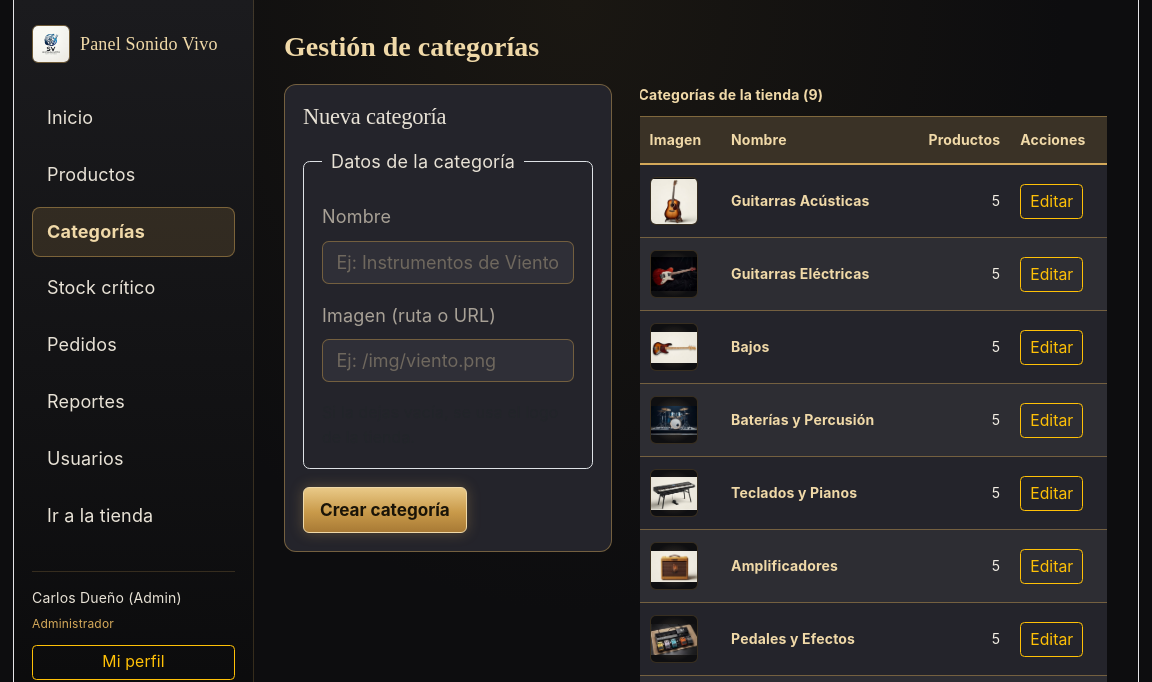
Scenario: Página AdminCategorias › crea una categoría nueva
The width and height of the screenshot is (1152, 682).
Type "Instrumentos de Viento" into the field labelled "Nombre" at (448, 262), box [322,241,574,284]
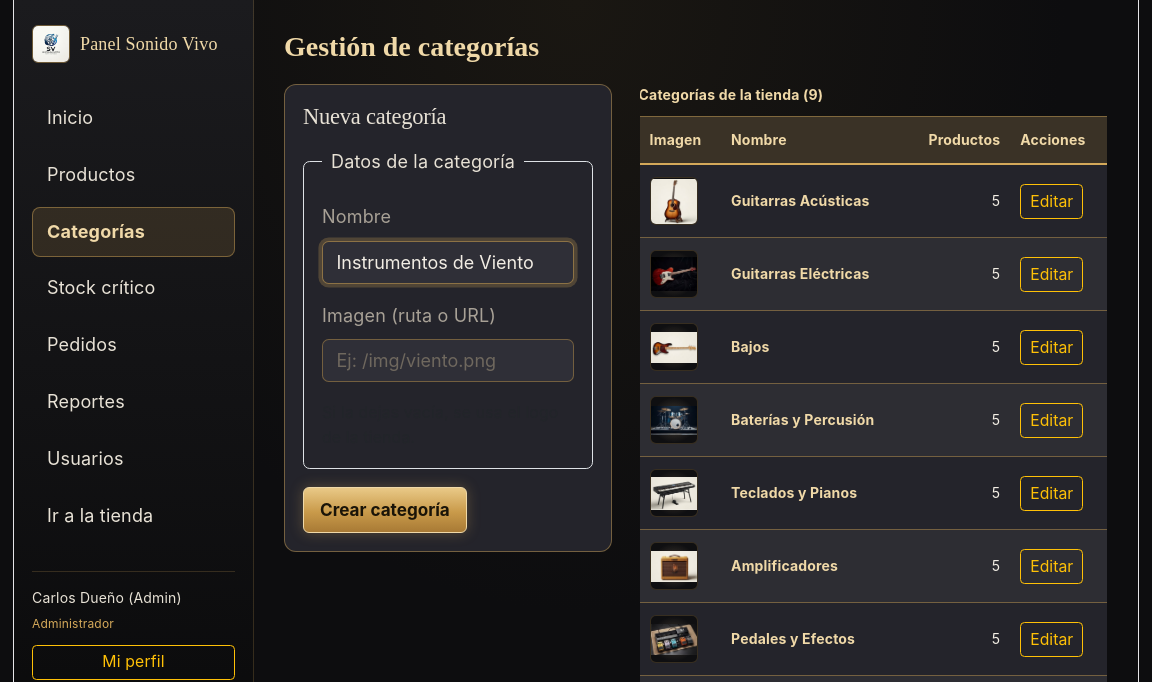
Click the button "Crear categoría" at (385, 510), box [303,487,467,533]
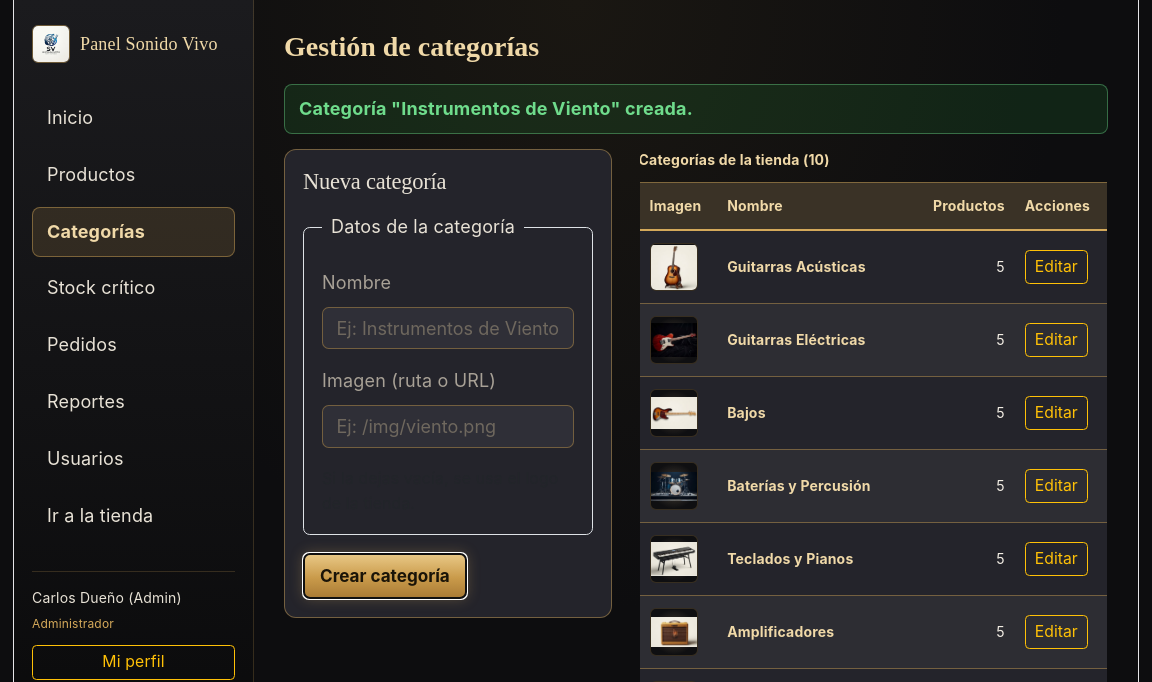
Result: the text "Categoría \"Instrumentos de Viento\" creada." is shown at [284,84,1108,134]
